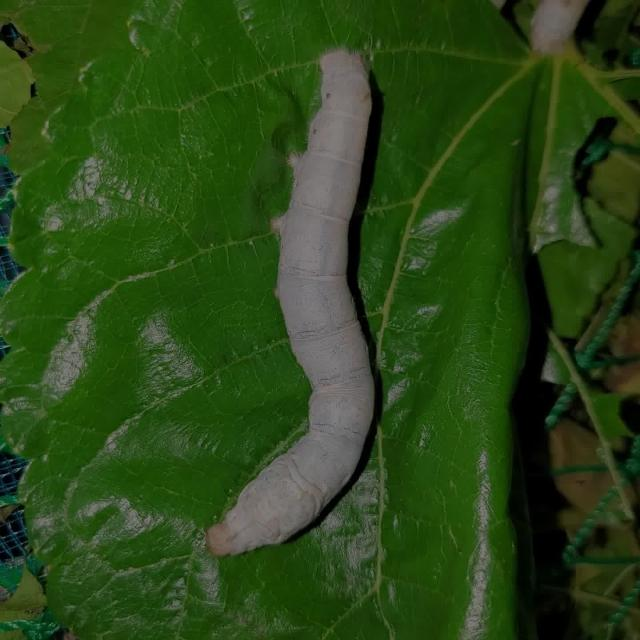Healthy: (197, 44, 402, 562)
